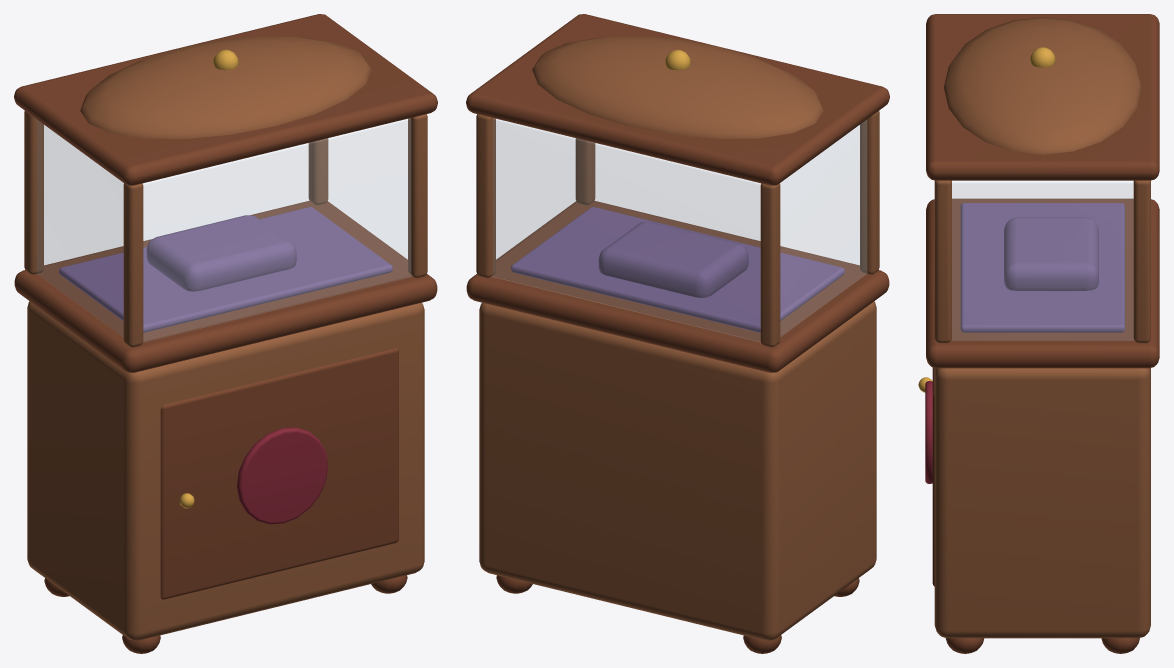
File: display-case.glb
3 renders of one model, left to right at view 1: azimuth 30°, elevation 25°; view 2: azimuth 150°, elevation 25°; view 3: azimuth 270°, elevation 25°, orthographic.
Visible parts, largest first — view 1: display-case; view 2: display-case; view 3: display-case.
Part boxes in pixels (x1,y1,x2,y2): display-case: (14, 14, 437, 653); display-case: (466, 14, 889, 653); display-case: (918, 14, 1159, 653).
Bounding box in the file's own units: 0.84 × 1.39 × 0.558.
